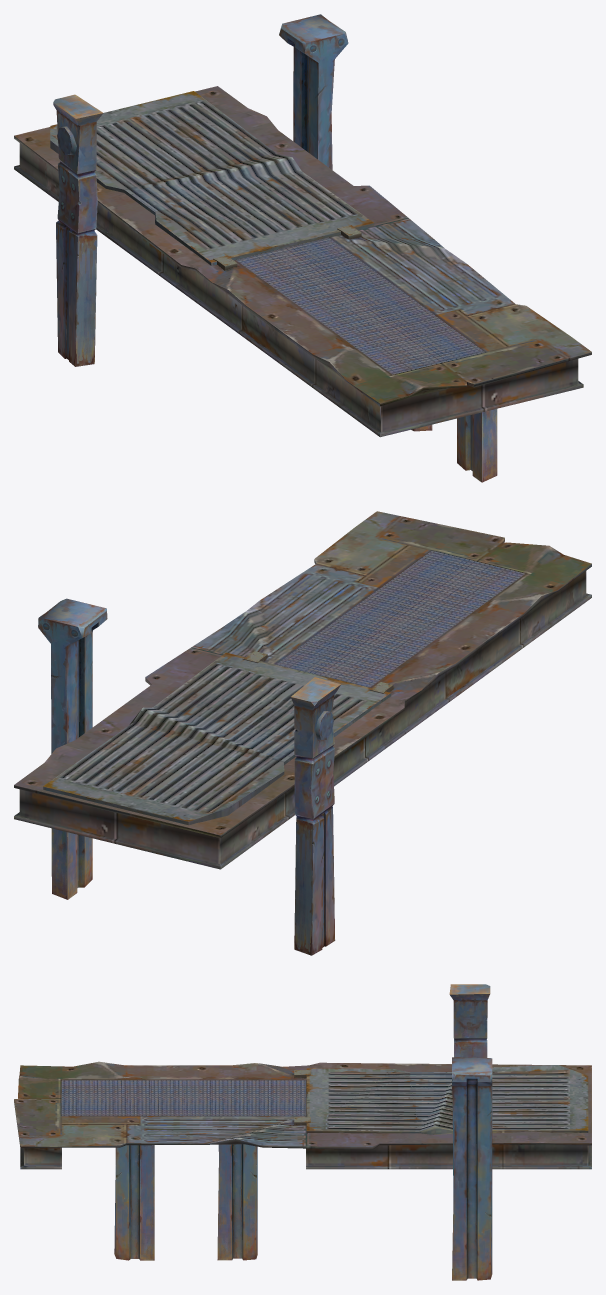
Rendered from all_arch_slum_dock_straight.glb.
3 renders of one model, top to bottom at view 1: azimuth 30°, elevation 25°; view 2: azimuth 150°, elevation 25°; view 3: azimuth 270°, elevation 25°, orthographic. The views are drawn at different scales.
Visible parts, largest first — view 1: all_arch_slum_dock_straight; view 2: all_arch_slum_dock_straight; view 3: all_arch_slum_dock_straight.
Boxes of the visible parts, left/top/right/bottom form: all_arch_slum_dock_straight: left=14, top=14, right=591, bottom=482; all_arch_slum_dock_straight: left=14, top=511, right=591, bottom=955; all_arch_slum_dock_straight: left=14, top=984, right=591, bottom=1280.
Size of the model in its own units: 0.4144 by 0.3936 by 0.9718.
Materials: 3 (3 with a texture image).
